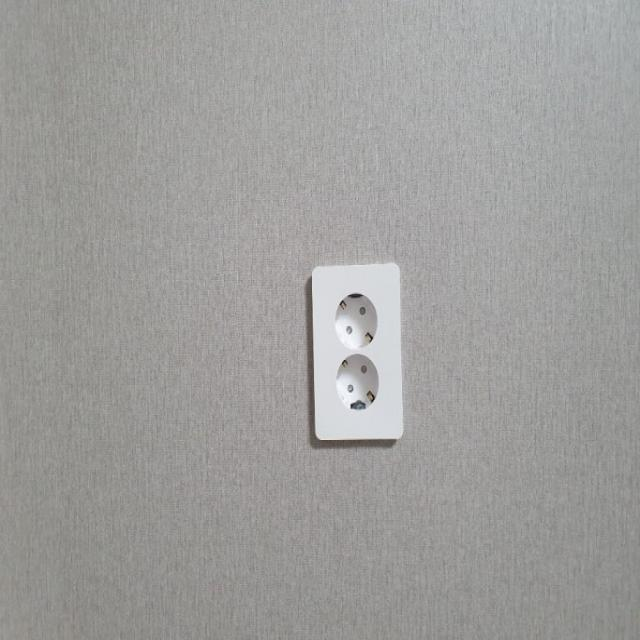typeb: (254, 238, 447, 490)
